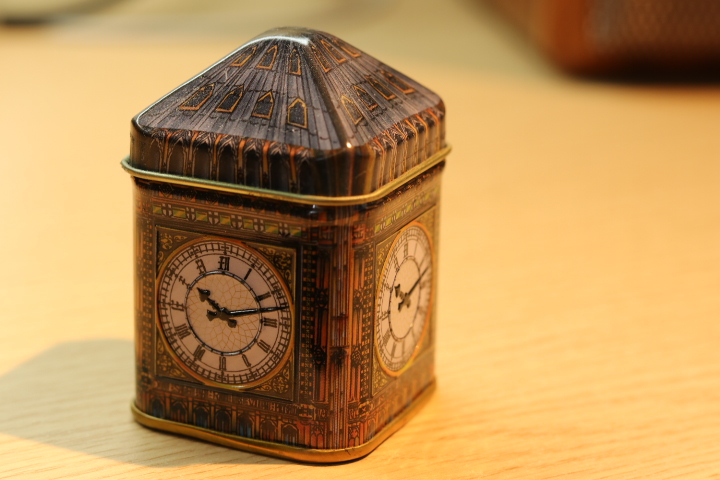Big Ben: (113, 19, 466, 474)
